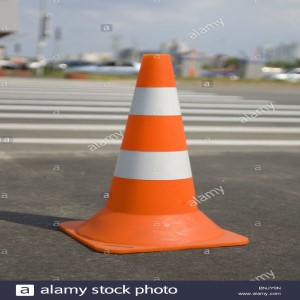traffic cone: (60, 53, 249, 254)
